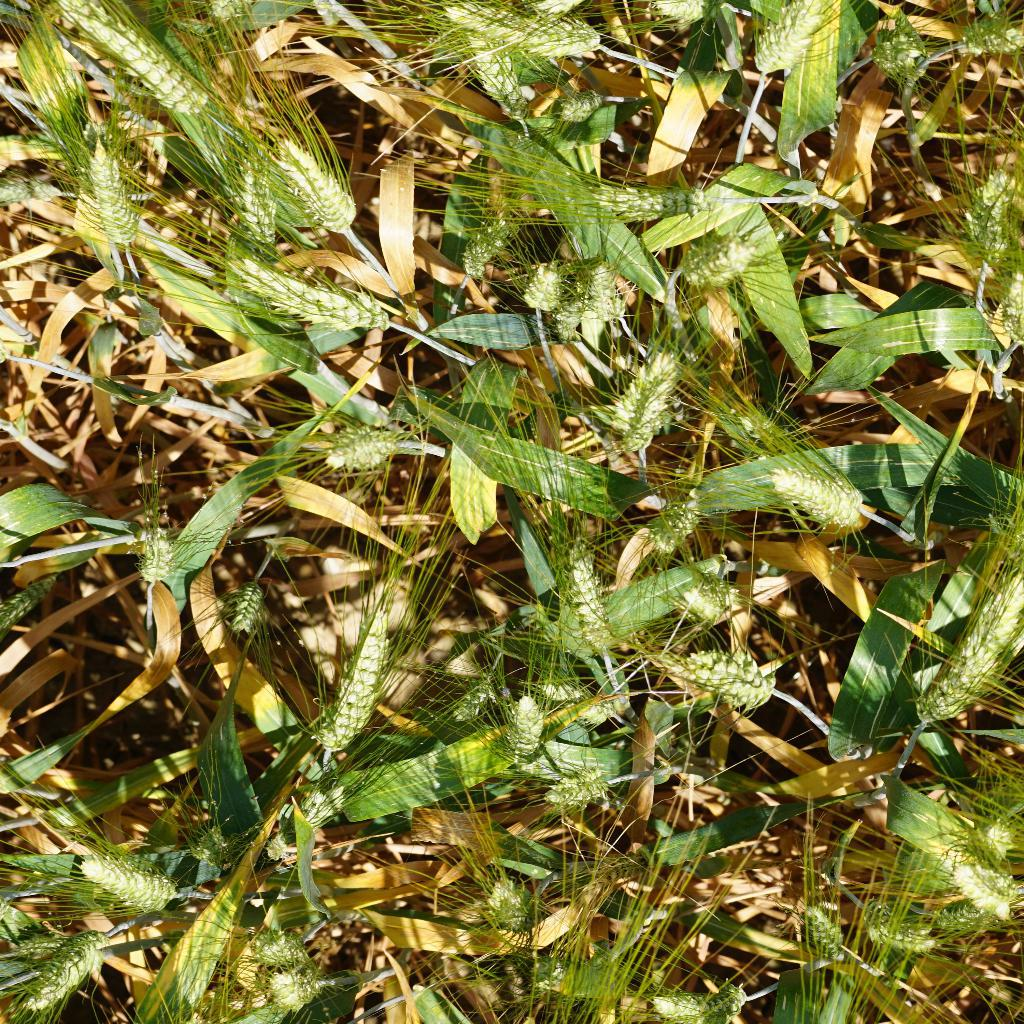0-0: (881, 546, 1024, 731), (48, 0, 220, 112), (220, 261, 402, 350), (253, 129, 369, 253), (310, 591, 391, 768), (654, 641, 798, 722), (7, 922, 115, 1021), (426, 0, 604, 58), (550, 530, 627, 660), (68, 130, 150, 249), (594, 346, 680, 455), (572, 168, 717, 228), (759, 456, 873, 531), (62, 845, 189, 909), (447, 27, 534, 119), (528, 951, 637, 1019), (215, 145, 283, 250), (302, 400, 403, 470), (960, 157, 1024, 266), (754, 0, 838, 81), (937, 844, 1024, 920), (567, 842, 659, 912), (847, 886, 929, 963), (671, 231, 769, 294), (860, 17, 934, 94), (630, 488, 709, 559), (635, 978, 752, 1024), (2, 570, 74, 643), (534, 757, 620, 817), (781, 900, 856, 967), (570, 258, 636, 332), (127, 508, 188, 588), (444, 669, 515, 735), (451, 215, 516, 287), (0, 162, 82, 217), (508, 251, 565, 328), (238, 959, 313, 1017), (548, 68, 609, 139), (956, 6, 1024, 66), (718, 401, 787, 458), (473, 873, 531, 940), (679, 565, 746, 623), (288, 783, 351, 840), (250, 911, 306, 974), (221, 571, 272, 636), (989, 261, 1024, 352), (543, 287, 594, 349), (492, 694, 550, 748), (182, 812, 233, 873), (962, 813, 1023, 863), (562, 691, 621, 740), (521, 672, 593, 706), (639, 0, 721, 29)
